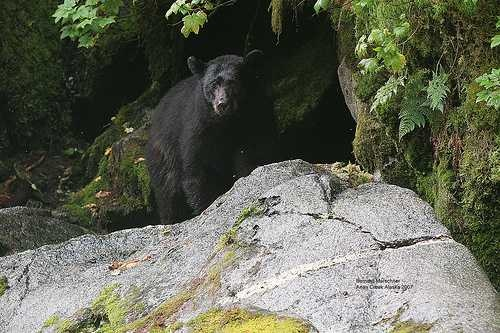bear: (145, 44, 273, 172)
